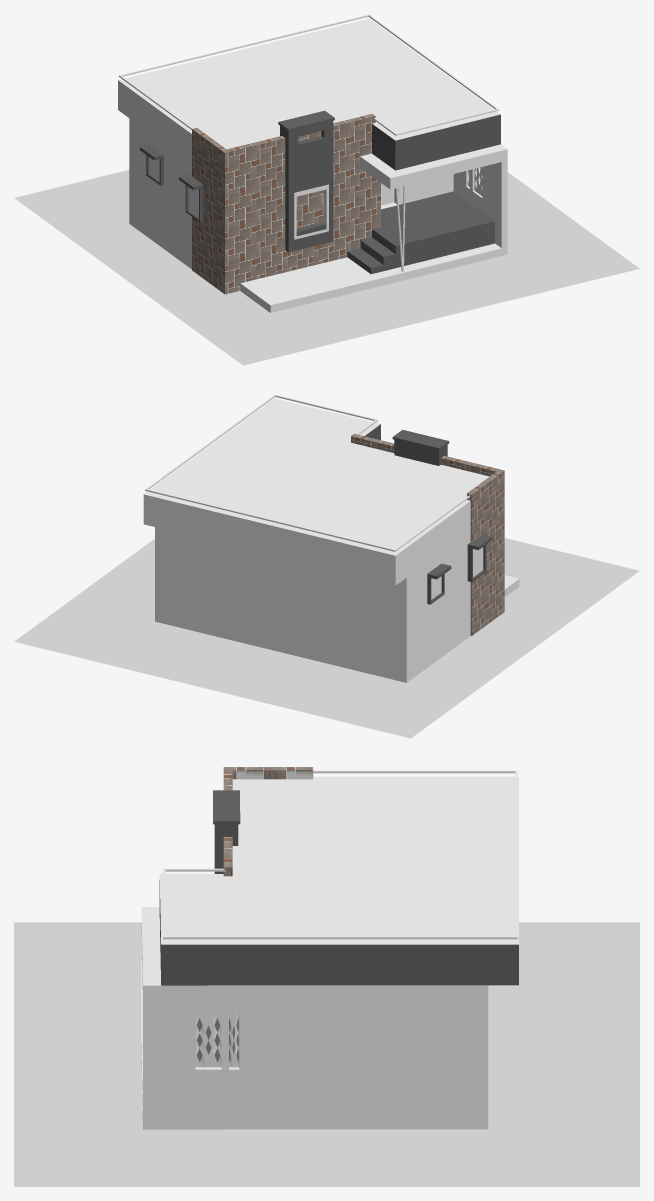
The model's file is house_elevation.glb.
The picture shows the model from 3 angles, top to bottom: view 1: azimuth 30°, elevation 25°; view 2: azimuth 150°, elevation 25°; view 3: azimuth 270°, elevation 25°; orthographic projection. The views are drawn at different scales.
Parts seen in each view (by area): view 1: polySurface1, Plane, Cube, polySurface1.002, polySurface1.001, pCube6, pCube3, pCube2, pCube4; view 2: polySurface1, Plane, Cube, pCube6, polySurface1.001, pCube3, pCube2; view 3: polySurface1, Plane, pCube6, Cube, polySurface1.001, pPlane3, polySurface1.002.
Part boxes in pixels (x1,y1,x2,y2): polySurface1: (118, 18, 507, 312); Plane: (14, 167, 639, 365); Cube: (192, 114, 380, 294); polySurface1.002: (347, 191, 494, 274); polySurface1.001: (278, 110, 334, 252); pCube6: (119, 14, 499, 135); pCube3: (179, 174, 203, 222); pCube2: (140, 144, 163, 185); pCube4: (294, 184, 328, 239); polySurface1: (143, 398, 519, 682); Plane: (14, 538, 639, 738); Cube: (351, 433, 504, 635); pCube6: (145, 394, 469, 551); polySurface1.001: (392, 429, 449, 465); pCube3: (467, 534, 492, 582); pCube2: (427, 563, 451, 604); polySurface1: (141, 776, 518, 1129); Plane: (14, 922, 639, 1186); pCube6: (163, 770, 517, 939); Cube: (223, 767, 313, 1023); polySurface1.001: (213, 790, 240, 873); pPlane3: (195, 1014, 221, 1067); polySurface1.002: (197, 1018, 238, 1061).
Size of the model in its own units: 0.4299 by 0.1597 by 0.4299.
4 materials, 1 textured.
